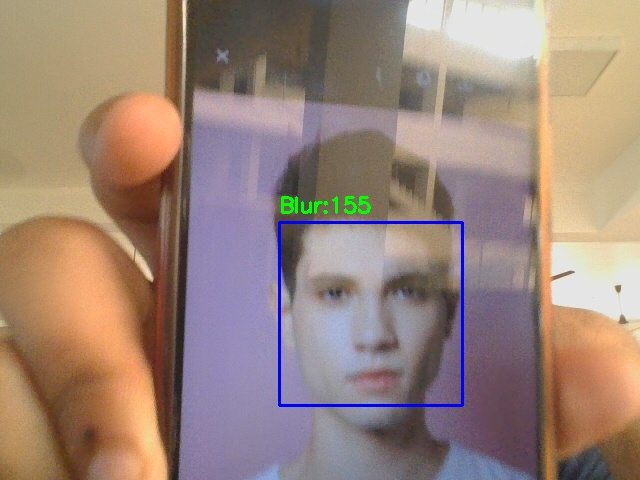fake: (279, 222, 462, 405)
